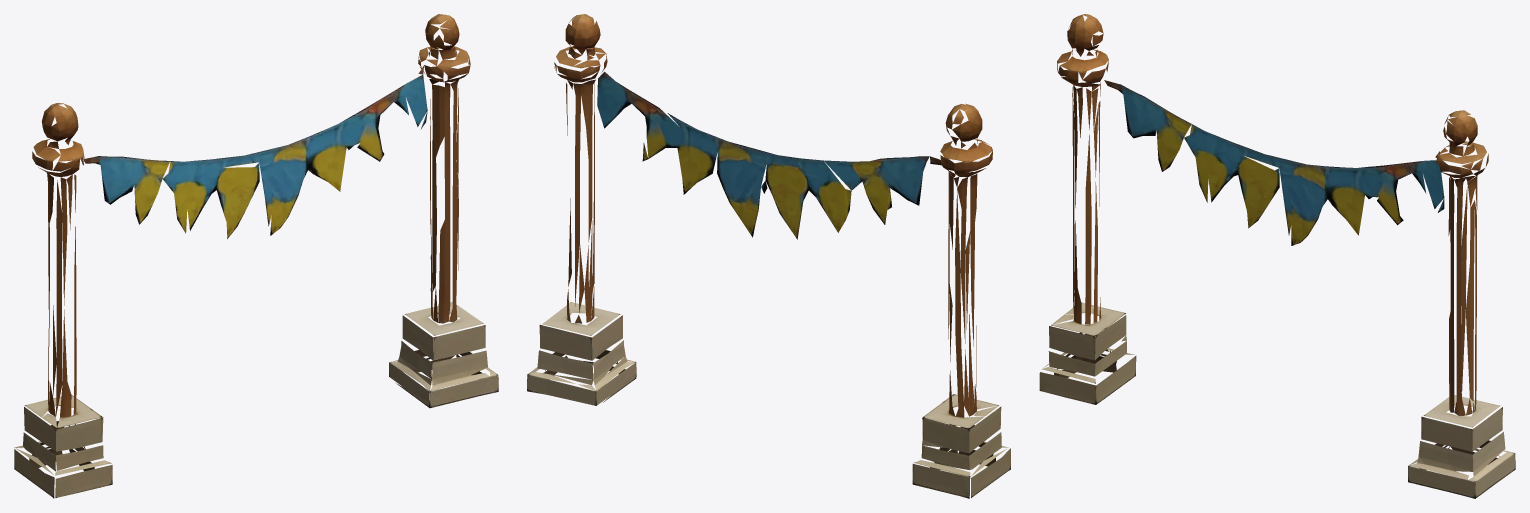
Rendered from poles_decoration.glb.
3 renders of one model, left to right at view 1: azimuth 30°, elevation 25°; view 2: azimuth 150°, elevation 25°; view 3: azimuth 330°, elevation 25°, orthographic.
Visible parts, largest first — view 1: geometry_0; view 2: geometry_0; view 3: geometry_0.
Boxes of the visible parts, box(x1,y1,x2,y2) form: geometry_0: box(14, 14, 498, 498); geometry_0: box(527, 14, 1010, 498); geometry_0: box(1039, 14, 1515, 498).
Bounding box in the file's own units: 0.644 × 0.5191 × 0.1032.
Materials: 1 (1 with a texture image).
